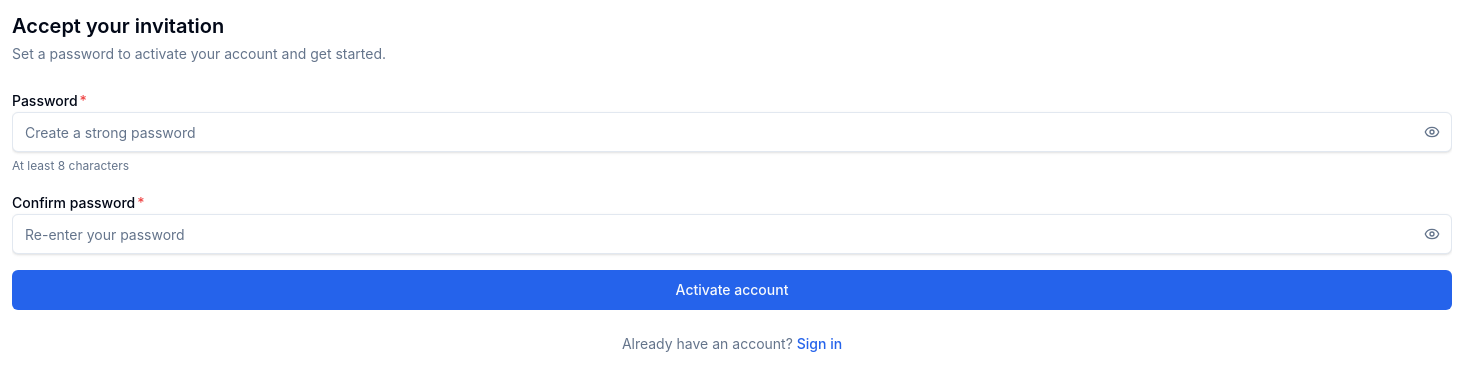
Scenario: AcceptInvitationPage › shows a validation error when the passwords do not match
This screenshot has width=1464, height=391.
Step 1. Type "validpass123" into the password field labelled "Password*" → (732, 132), box [12, 112, 1452, 152]
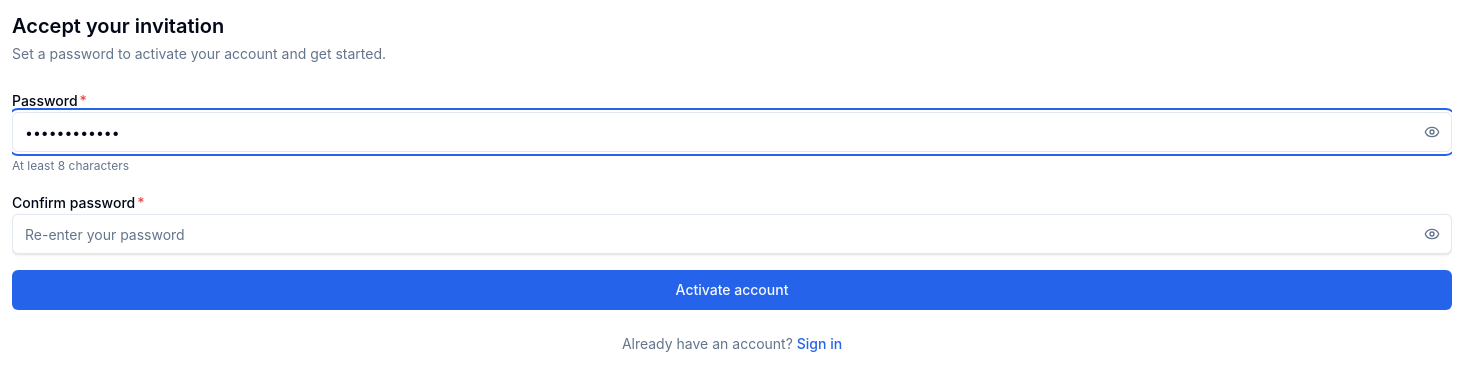
Step 2. Type "mismatchpass" into the password field labelled "Confirm password*" → (732, 234), box [12, 214, 1452, 254]
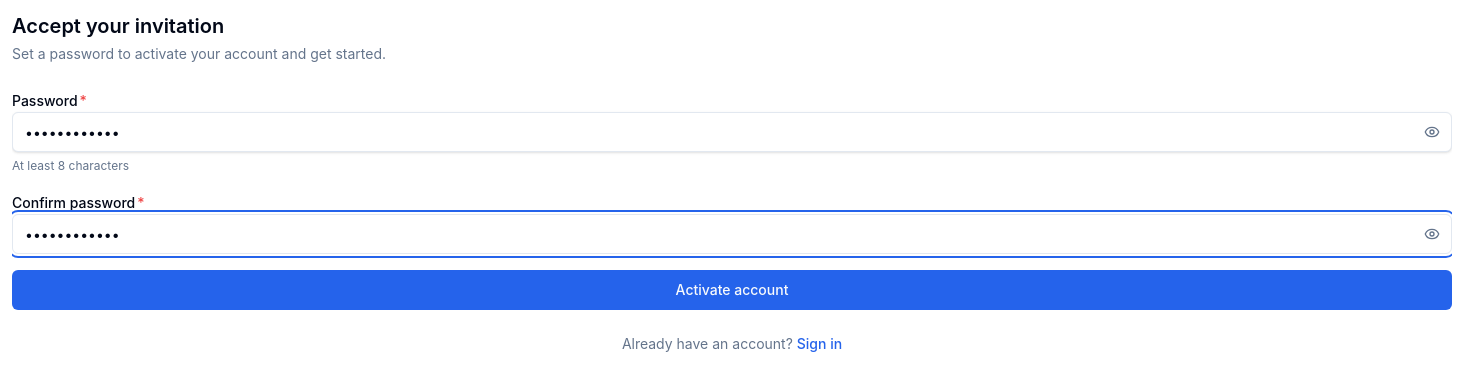
Step 3. Click the button "Activate account" → click(732, 290), box [12, 270, 1452, 310]
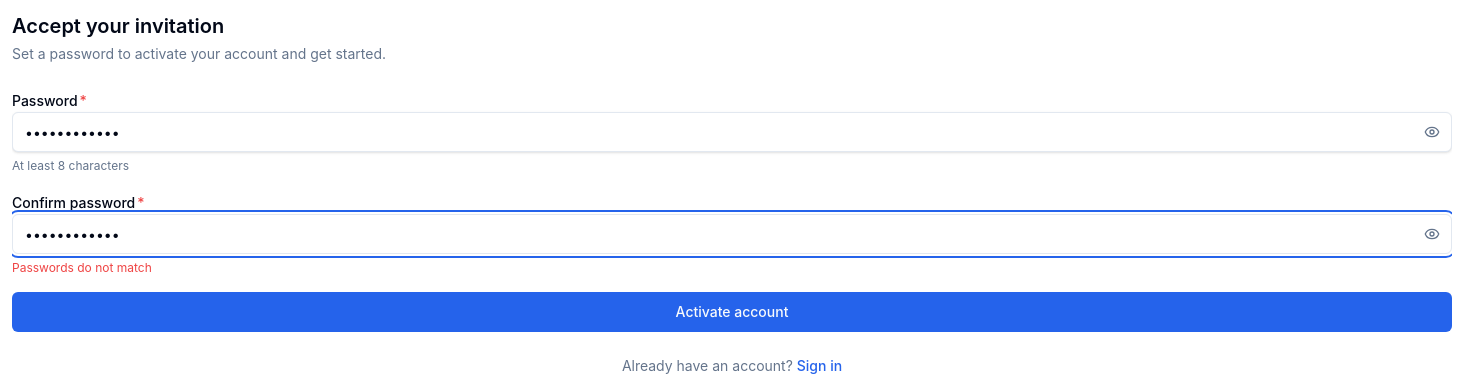
Check: the text "Passwords do not match" is shown, box [12, 260, 152, 275]
